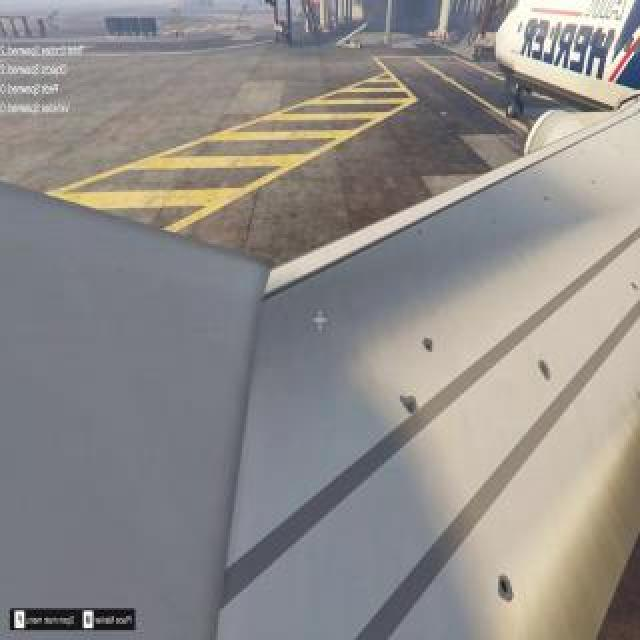crack: (495, 572, 517, 602), (538, 359, 552, 383), (403, 396, 419, 416), (422, 337, 434, 353), (629, 280, 639, 296), (489, 216, 499, 228), (416, 226, 424, 238)
